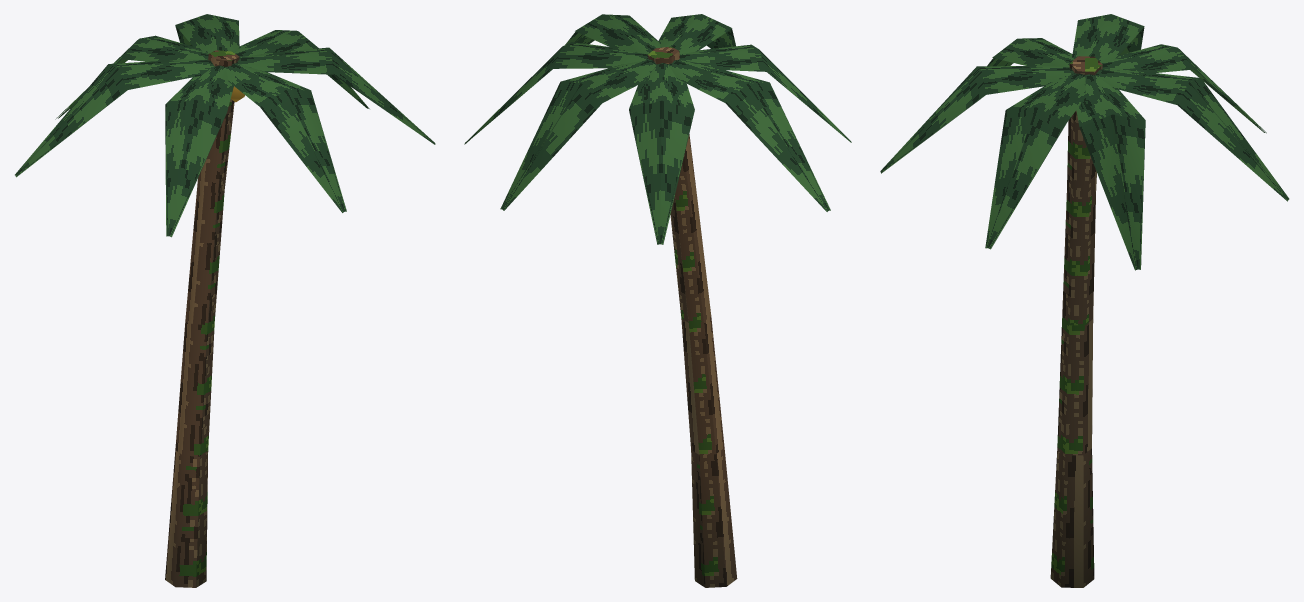
Rendered from wild.palm.glb.
3 views of the same model, side by side, from view 1: azimuth 30°, elevation 25°; view 2: azimuth 150°, elevation 25°; view 3: azimuth 270°, elevation 25° (orthographic). The views are drawn at different scales.
Visible parts, largest first — view 1: kit_shell_crown, kit_trunk; view 2: kit_shell_crown, kit_trunk; view 3: kit_shell_crown, kit_trunk.
Boxes of the visible parts, bbox=[...] form: kit_shell_crown: bbox=[15, 14, 435, 237]; kit_trunk: bbox=[165, 50, 239, 587]; kit_shell_crown: bbox=[464, 14, 851, 244]; kit_trunk: bbox=[647, 46, 737, 587]; kit_shell_crown: bbox=[880, 14, 1289, 270]; kit_trunk: bbox=[1050, 56, 1102, 587].
Size of the model in its own units: 4.76 by 6.54 by 4.48.
Materials: 3 (3 with a texture image).
